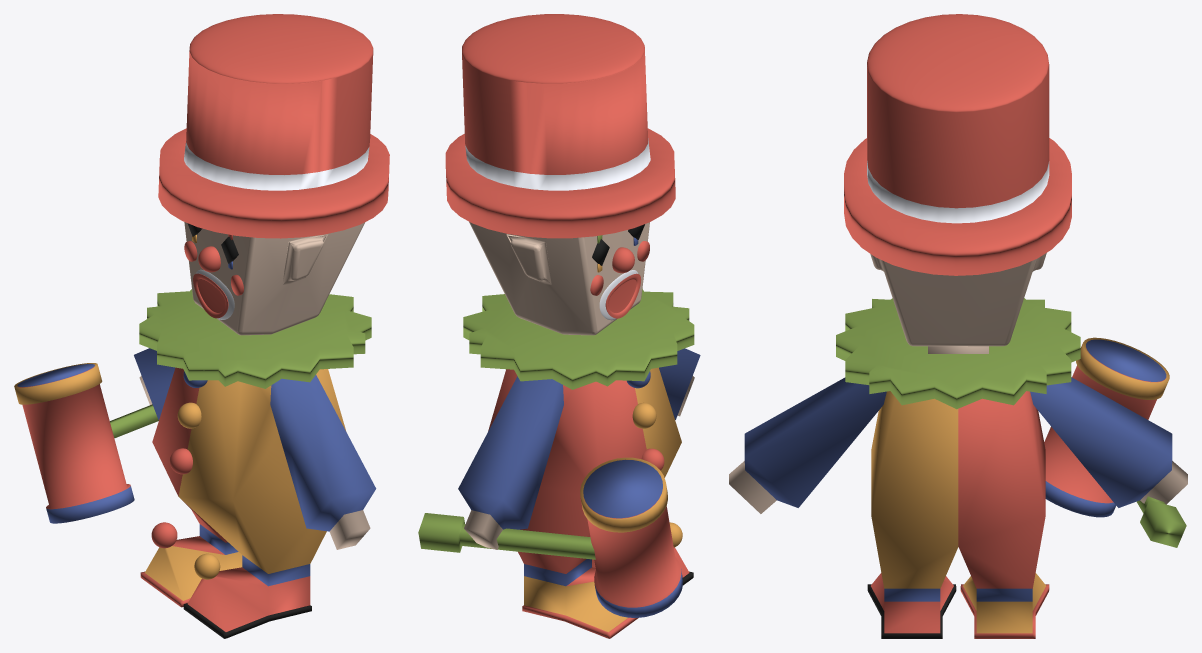
The model's file is clown.gltf.
3 views of the same model, side by side, from view 1: azimuth 30°, elevation 25°; view 2: azimuth 150°, elevation 25°; view 3: azimuth 270°, elevation 25° (orthographic). The views are drawn at different scales.
Parts seen in each view (by area): view 1: clown-headdress, clown-body-right, clown-custom, hammer, clown-head, clown-mouth, hammer-handle, clown-shoes-knot, clown-shoes-knot.001; view 2: clown-headdress, clown-body-right, clown-custom, hammer, clown-head, hammer-handle, clown-mouth, clown-custom-knot.002, clown-nose, clown-mouth-makeup; view 3: clown-body-right, clown-headdress, clown-custom, clown-head, hammer, hammer-handle.
Boxes of the visible parts, x1,y1,x2,y2 form: clown-headdress: (158,14,389,238); clown-body-right: (134,348,376,638); clown-custom: (139,289,371,388); hammer: (14,363,134,523); clown-head: (184,222,364,335); clown-mouth: (193,273,228,318); hammer-handle: (110,404,158,438); clown-shoes-knot: (151,522,177,548); clown-shoes-knot.001: (194,553,220,579); clown-headdress: (445,14,675,238); clown-body-right: (458,348,700,638); clown-custom: (463,289,694,389); hammer: (580,457,682,617); clown-head: (469,222,649,335); hammer-handle: (418,513,595,559); clown-mouth: (605,273,641,318); clown-custom-knot.002: (632,402,656,428); clown-nose: (612,247,634,273); clown-mouth-makeup: (599,270,637,320); clown-body-right: (729,377,1187,638); clown-headdress: (844,14,1071,275); clown-custom: (836,298,1080,409); clown-head: (870,253,1046,346); hammer: (1044,337,1169,517); hammer-handle: (1137,496,1186,547).
Size of the model in its own units: 1.96 by 3.65 by 2.57.
